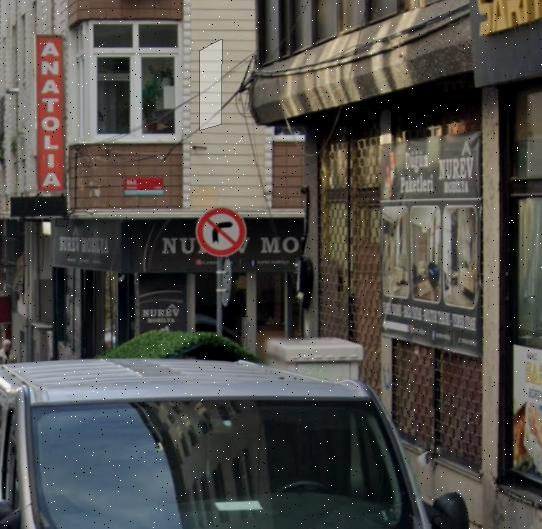rightturnsareforbidden: (199, 207, 244, 257)
